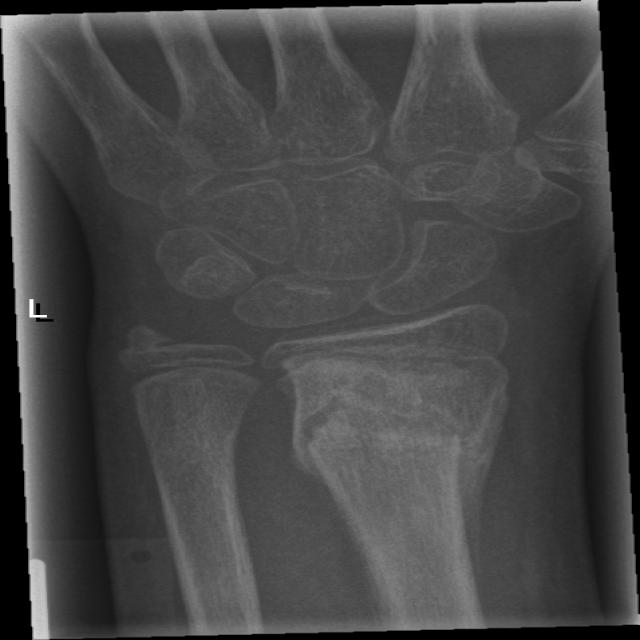radius fracture: (262, 363, 527, 590)
